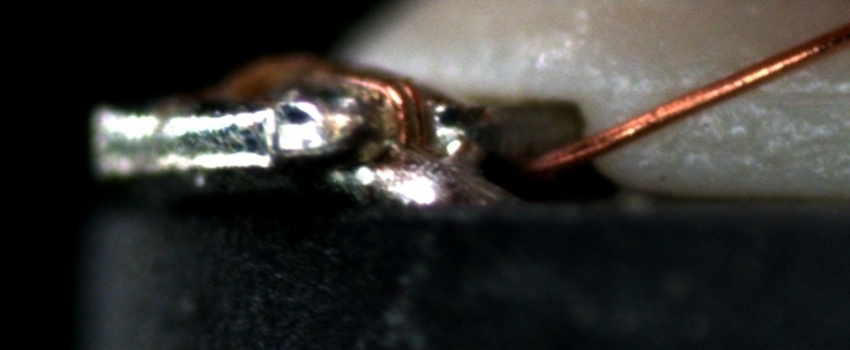DL: (633, 64, 849, 128)
TE: (337, 70, 432, 155)
